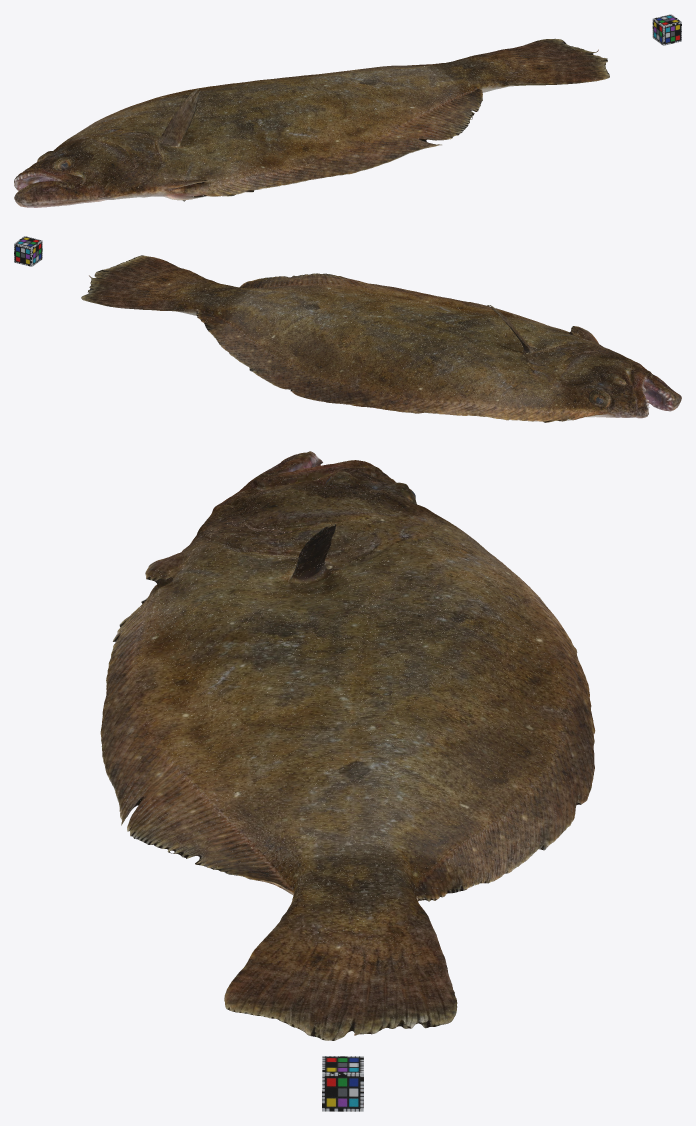
Rendered from hirame-0a741613c181.glb.
The picture shows the model from 3 angles, top to bottom: view 1: azimuth 30°, elevation 25°; view 2: azimuth 150°, elevation 25°; view 3: azimuth 270°, elevation 25°; orthographic projection. The views are drawn at different scales.
Parts seen in each view (by area): view 1: Q11566-1all-1_5, Cube_2; view 2: Q11566-1all-1_5, Cube_2; view 3: Q11566-1all-1_5, Cube_2.
Boxes of the visible parts, x1,y1,x2,y2 form: Q11566-1all-1_5: (14, 38, 609, 207); Cube_2: (652, 14, 681, 45); Q11566-1all-1_5: (81, 255, 681, 422); Cube_2: (14, 236, 42, 266); Q11566-1all-1_5: (100, 451, 595, 1040); Cube_2: (322, 1056, 363, 1111).
Size of the model in its own units: 16.54 by 2.56 by 5.44.
3 materials, 3 textured.
